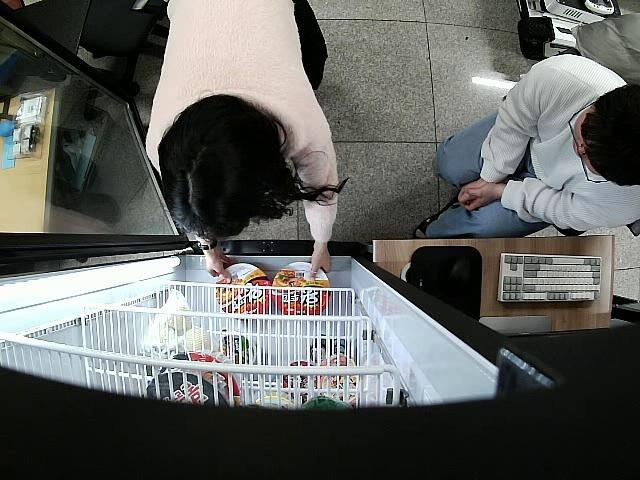00_hand: (203, 249, 238, 284), (309, 240, 333, 285)
10_wangTtukkeong: (274, 261, 329, 317), (215, 265, 271, 312)
